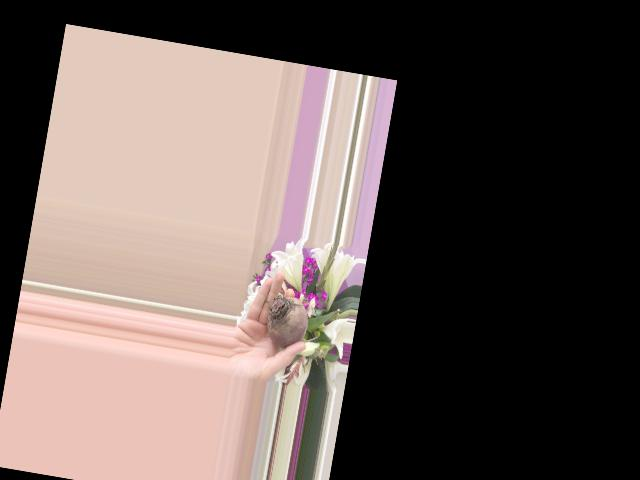beet: (263, 293, 324, 353)
